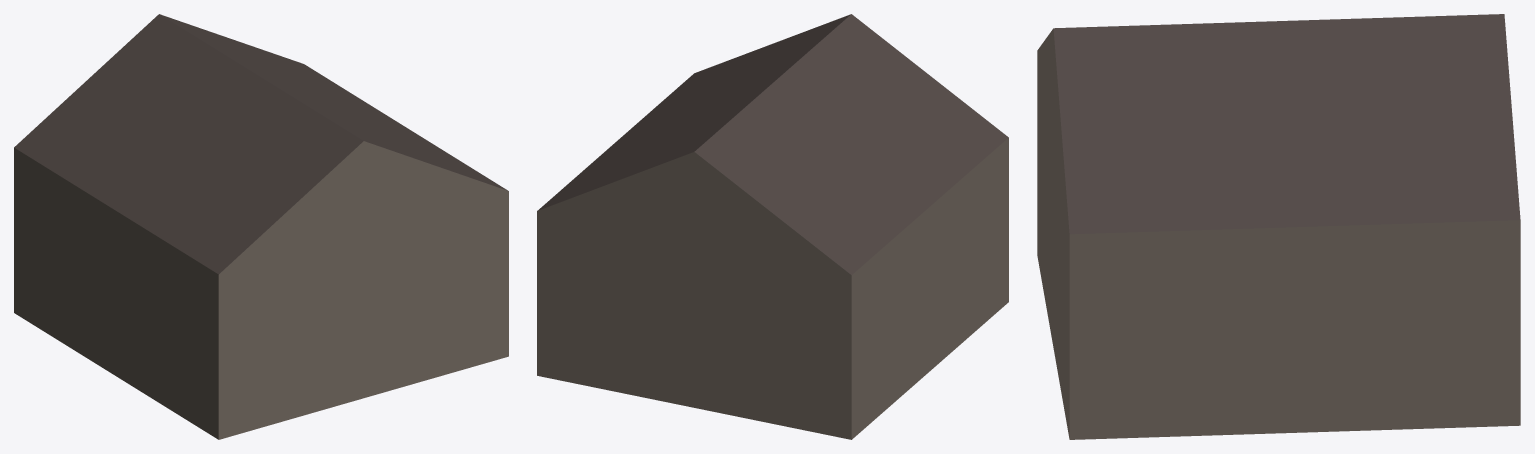
3 renders of one model, left to right at view 1: azimuth 30°, elevation 25°; view 2: azimuth 150°, elevation 25°; view 3: azimuth 270°, elevation 25°, orthographic. The views are drawn at different scales.
Visible parts, largest first — view 1: HP-w859467744; view 2: HP-w859467744; view 3: HP-w859467744.
Part boxes in pixels (bbox=[...]): HP-w859467744: bbox=[14, 14, 508, 439]; HP-w859467744: bbox=[537, 14, 1008, 439]; HP-w859467744: bbox=[1037, 14, 1520, 439].
Size of the model in its own units: 18.59 by 13.99 by 19.16.
